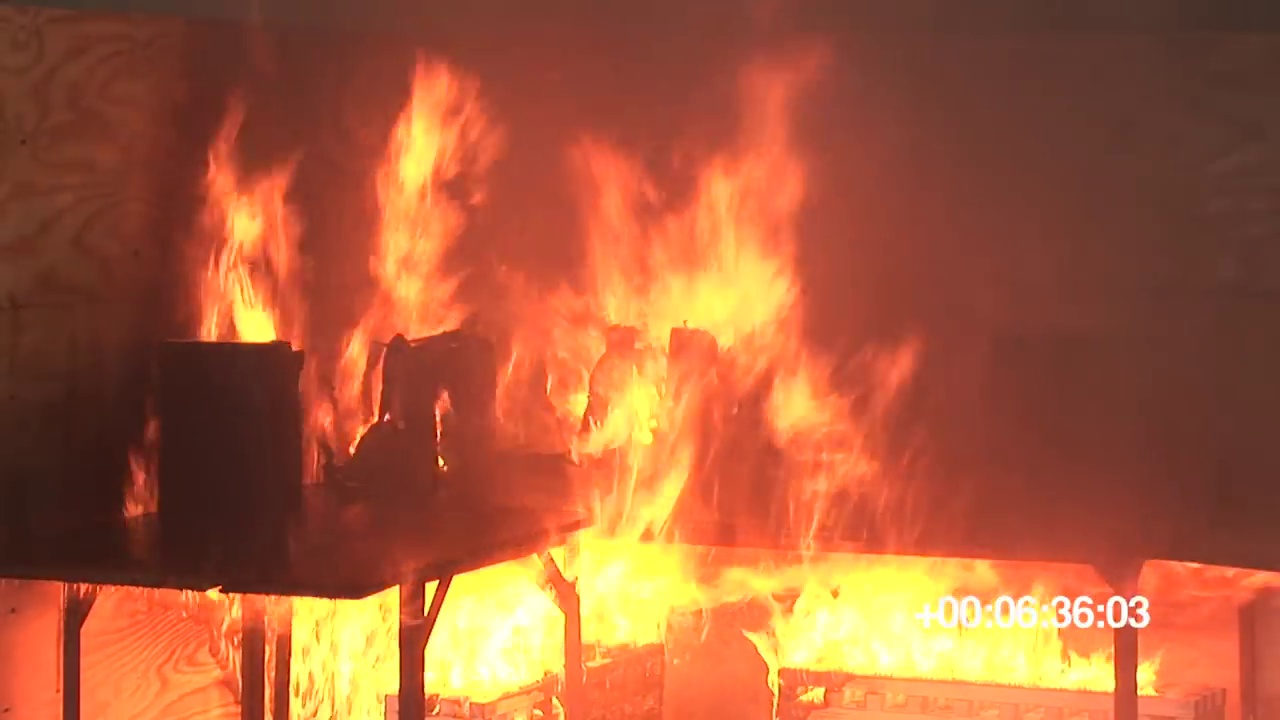fire: (545, 138, 905, 568), (428, 565, 1152, 691), (355, 60, 494, 333), (200, 153, 296, 341), (292, 599, 396, 720)
